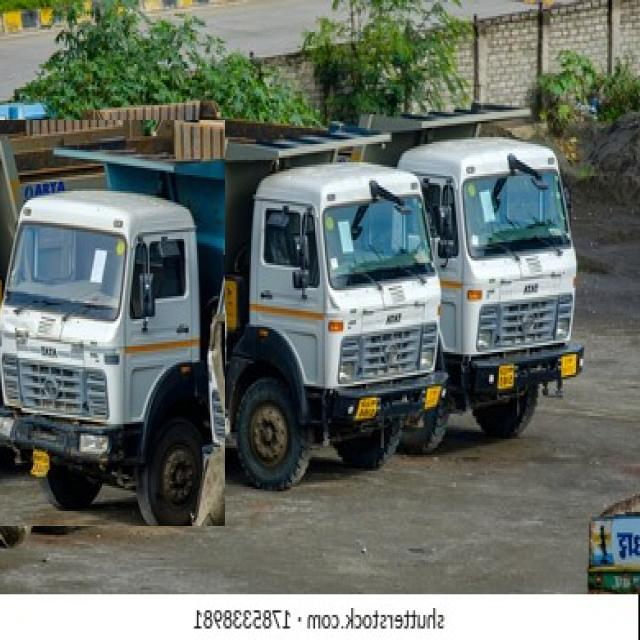truck: (81, 97, 444, 493), (0, 120, 225, 526), (336, 103, 581, 443)
